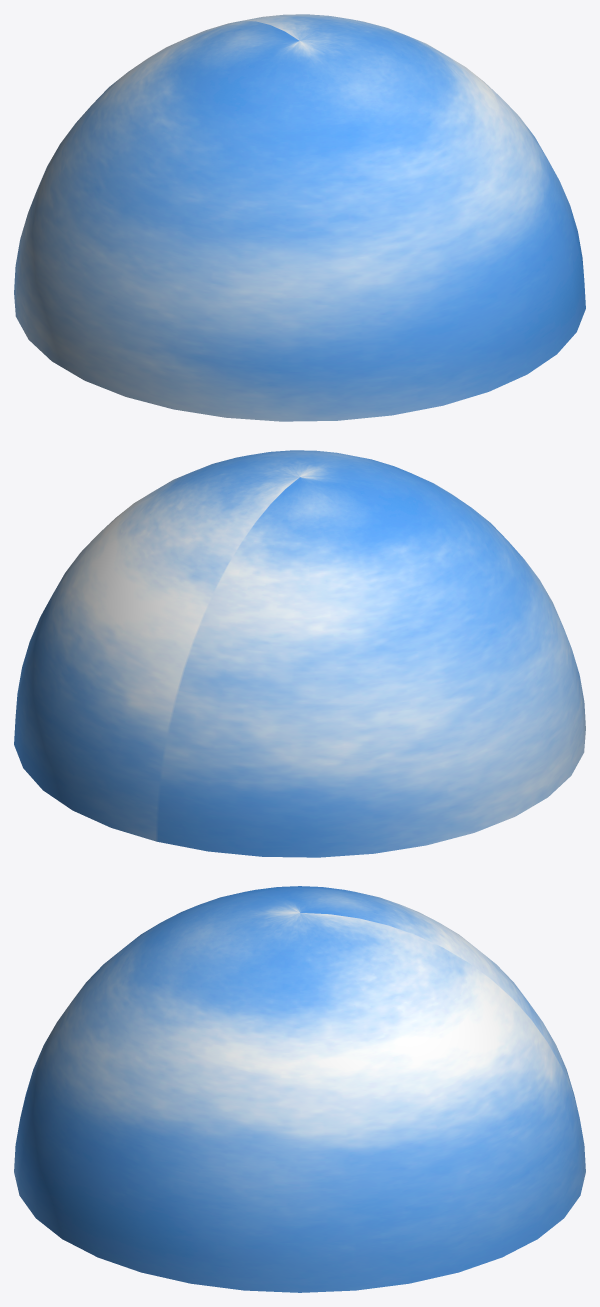
Rendered from skyTest.obj.
The picture shows the model from 3 angles, top to bottom: view 1: azimuth 30°, elevation 25°; view 2: azimuth 150°, elevation 25°; view 3: azimuth 270°, elevation 25°; orthographic projection.
Visible parts, largest first — view 1: Sphere001; view 2: Sphere001; view 3: Sphere001.
Part boxes in pixels (x1=…): Sphere001: x1=14, y1=14, x2=585, y2=421; Sphere001: x1=14, y1=450, x2=585, y2=857; Sphere001: x1=14, y1=886, x2=585, y2=1292.
Size of the model in its own units: 1663 by 831 by 1663.
Materials: 1 (1 with a texture image).
